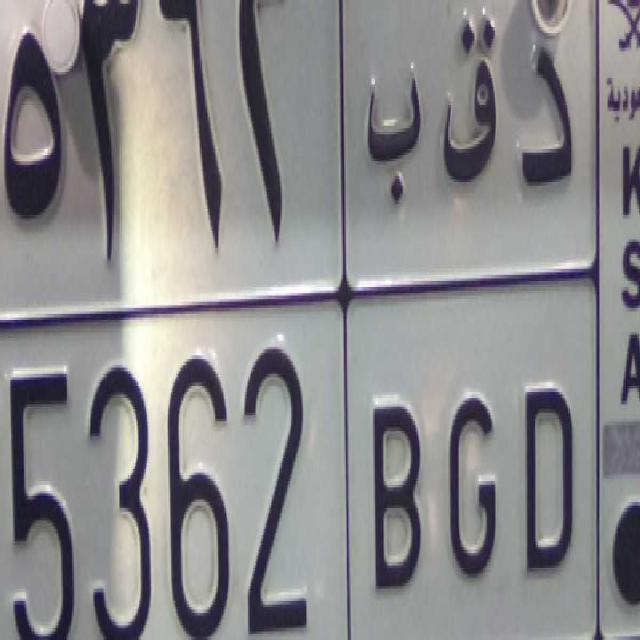license_plate: (0, 323, 592, 640)
